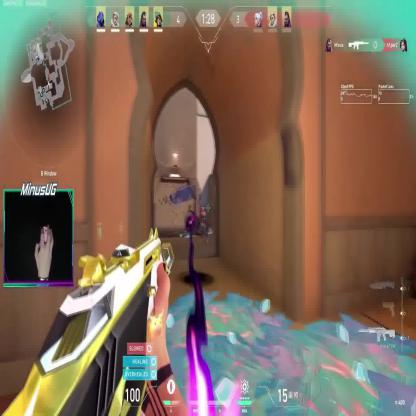enemy: (199, 204, 208, 231)
enemy_head: (201, 204, 205, 212)
